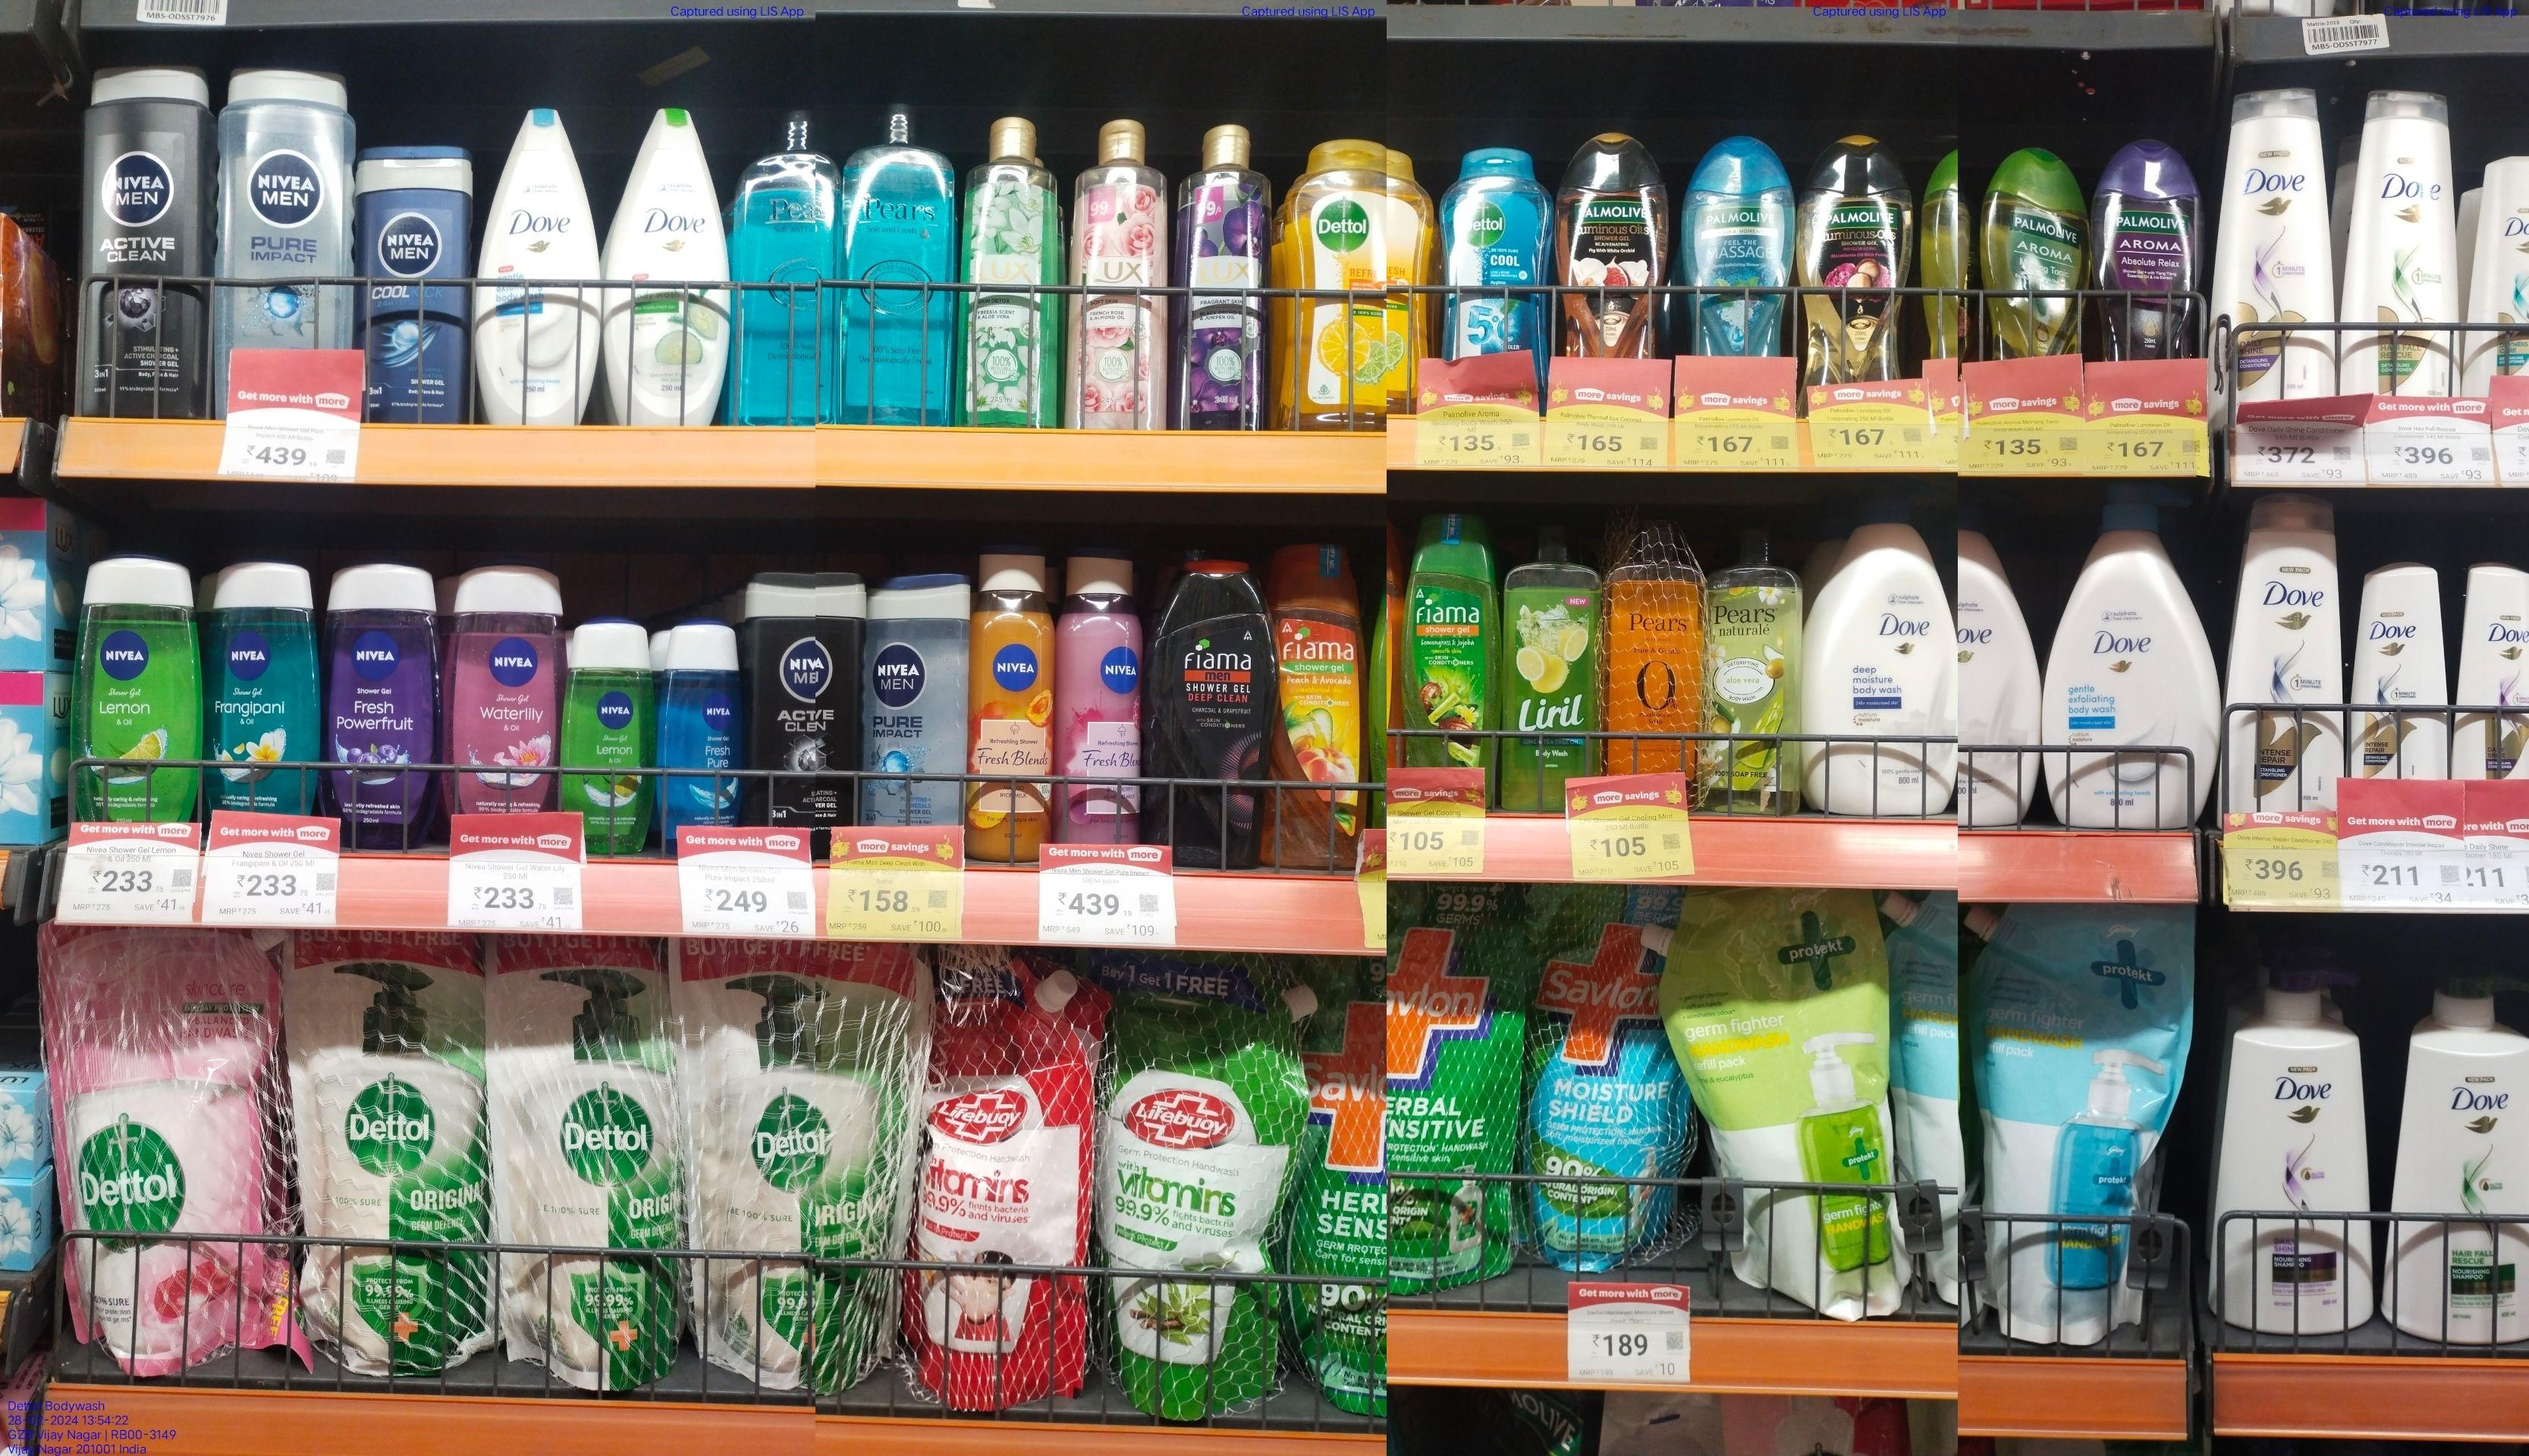Dettol_Bodywash_Cool: (1442, 148, 1551, 408)
Dettol_Bodywash_Refresh: (1294, 139, 1410, 427)
Dove_Gentle_Exfoliating_Body_Wash_250ML: (478, 97, 591, 429)
Dove_Refreshing_Body_Wash_250ML: (606, 99, 730, 427)
Lux_Black_Orchid_Scent_and_Juniper_Oil_Body_Wash_245ML: (1176, 120, 1275, 433)
Lux_Body_Wash_Skin_Detox_Freesia_Scent_and_Alove_Vera_245ML: (964, 111, 1060, 434)
Nivea_Shower_Gel_Frangipani_and_Oil_250ML: (205, 559, 316, 820)
Nivea_Shower_Gel_Fresh_Powerfruit_250ML: (320, 551, 436, 850)
Nivea_Shower_Gel_Lemon_and_Oil_250ML: (75, 553, 198, 827), (565, 619, 653, 858)
Nivea_Shower_Gel_Waterlily_and_Oil_250ML: (439, 558, 558, 832)
Palmolive_Aroma_Morning_Tonic_Shower_Gel_250ML: (1984, 146, 2084, 372)
Palmolive_Aroma_Relax_250ML: (2098, 139, 2213, 363)
Palmolive_Luminous_Oils_Invigorating_Macadamia_Oil_With_Peony_250ML: (1799, 134, 1909, 391)
Palmolive_Luminous_Oils_With_White_Orchid_Shower_Gel_250ML: (1563, 134, 1671, 365)
Pears_Pure_Glycerin_and_Mint_Extracts_Body_Wash_250ML: (849, 92, 952, 431), (735, 108, 837, 427)
